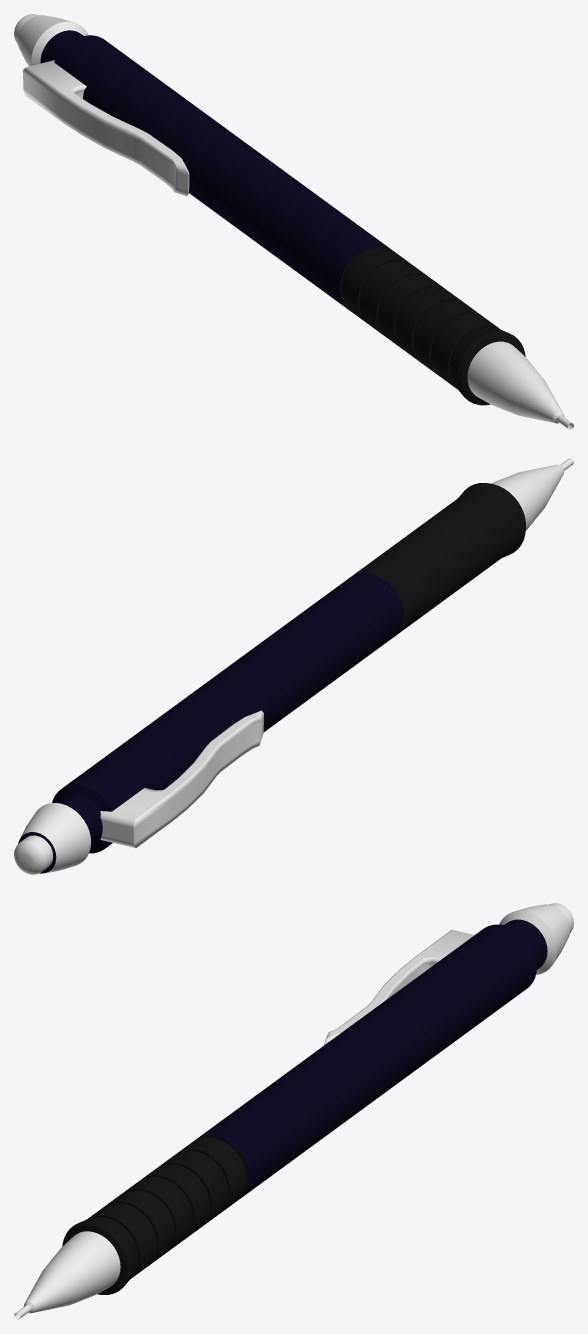
File: uploads_files_3702174_Mechanical+Pencil+.fbx
3 renders of one model, top to bottom at view 1: azimuth 30°, elevation 25°; view 2: azimuth 150°, elevation 25°; view 3: azimuth 330°, elevation 25°, orthographic.
Parts seen in each view (by area): view 1: Main part, Main part 2; view 2: Main part, Main part 2; view 3: Main part, Main part 2.
Part boxes in pixels (bbox=[...]): Main part: bbox=[14, 14, 573, 429]; Main part 2: bbox=[23, 60, 189, 196]; Main part: bbox=[14, 458, 573, 874]; Main part 2: bbox=[100, 710, 263, 848]; Main part: bbox=[14, 903, 573, 1319]; Main part 2: bbox=[324, 929, 474, 1045].
Size of the model in its own units: 57.46 by 43.79 by 600.
